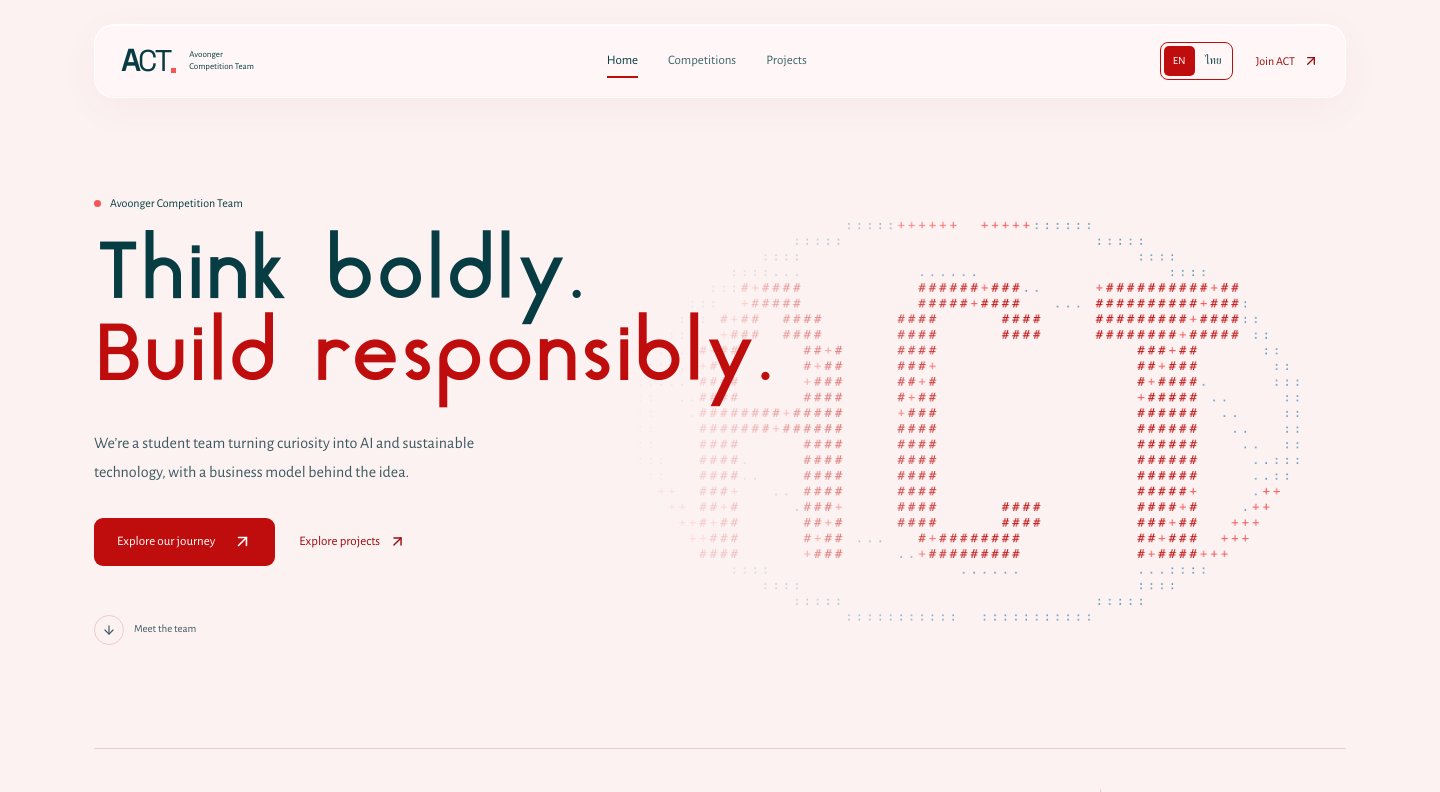
Scenario: keepsTheSelectorUsableWhenStorageIsDenied
The width and height of the screenshot is (1440, 792).
Click the button "ไทย" at coordinates (1213, 61), box [1198,46,1229,76]
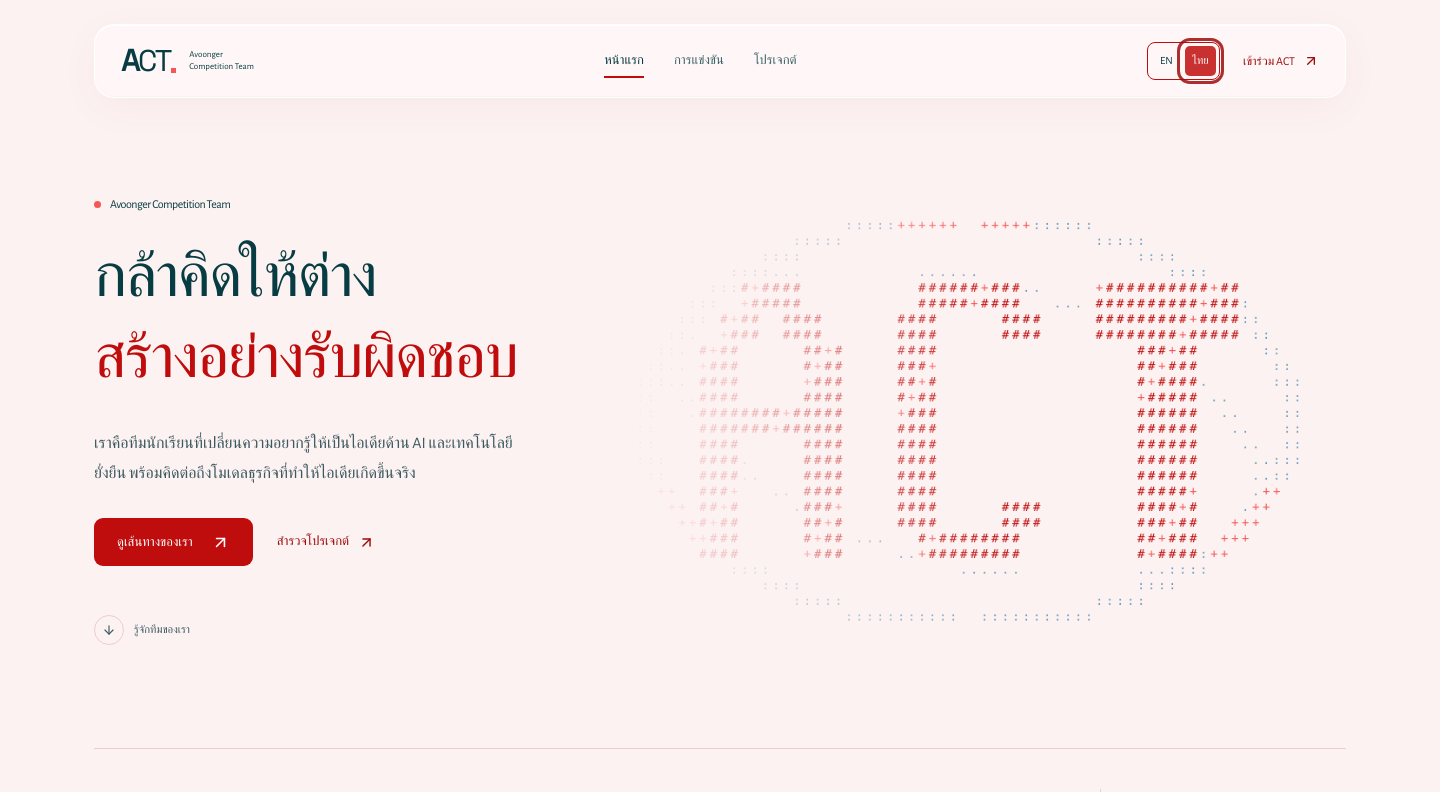
expect the link "หน้าแรก" is shown: met, box [604,42,644,80]
